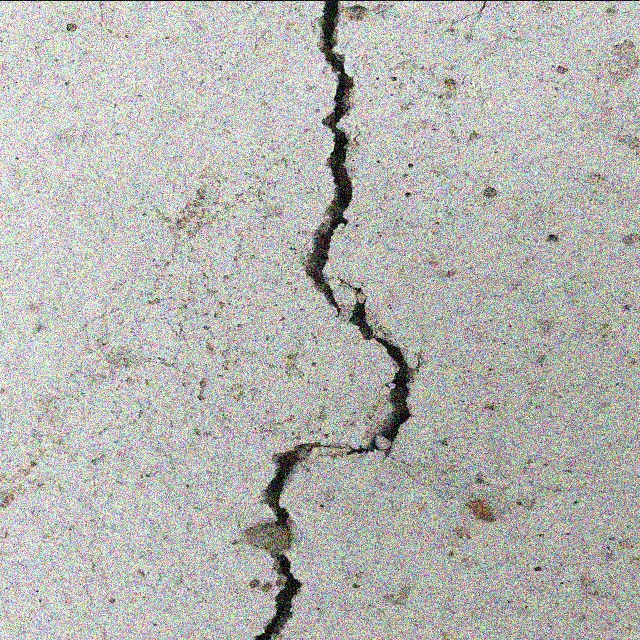SurfaceCrack: (220, 0, 444, 640)
